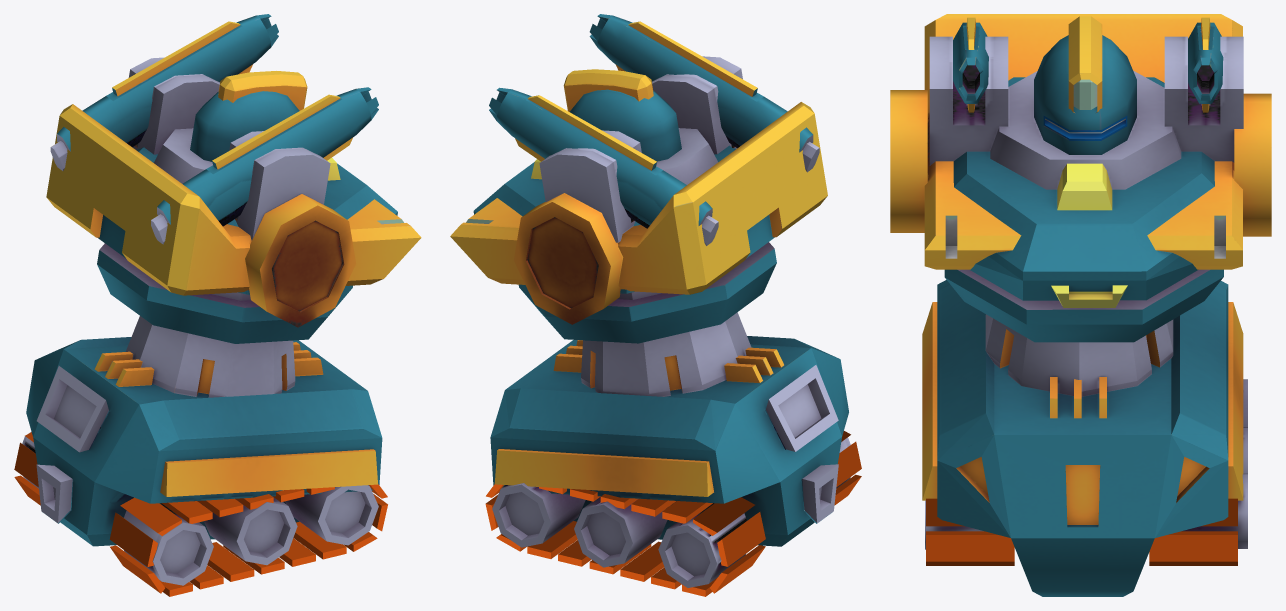
The model's file is Player_Move16.obj.
3 views of the same model, side by side, from view 1: azimuth 30°, elevation 25°; view 2: azimuth 150°, elevation 25°; view 3: azimuth 270°, elevation 25° (orthographic). The views are drawn at different scales.
Visible parts, largest first — view 1: Object004, Object014, Box009, Box017, Box016; view 2: Object004, Object014, Box009, Box016, Box017; view 3: Object004, Object014, Box017, Box016, Box009.
Boxes of the visible parts, box(x1,y1,x2,y2) form: Object004: box(26, 57, 421, 546); Object014: box(50, 14, 378, 244); Box009: box(22, 432, 378, 585); Box017: box(109, 484, 387, 596); Box016: box(14, 432, 40, 505); Object004: box(450, 56, 848, 546); Object014: box(489, 14, 819, 245); Box009: box(492, 437, 850, 587); Box016: box(485, 484, 765, 596); Box017: box(834, 431, 861, 505); Object004: box(890, 14, 1271, 596); Object014: box(953, 17, 1223, 112); Box017: box(926, 498, 1014, 565); Box016: box(1149, 498, 1237, 565); Box009: box(925, 379, 1247, 549).
Bounding box in the file's own units: 60.24 × 82.68 × 52.49.
